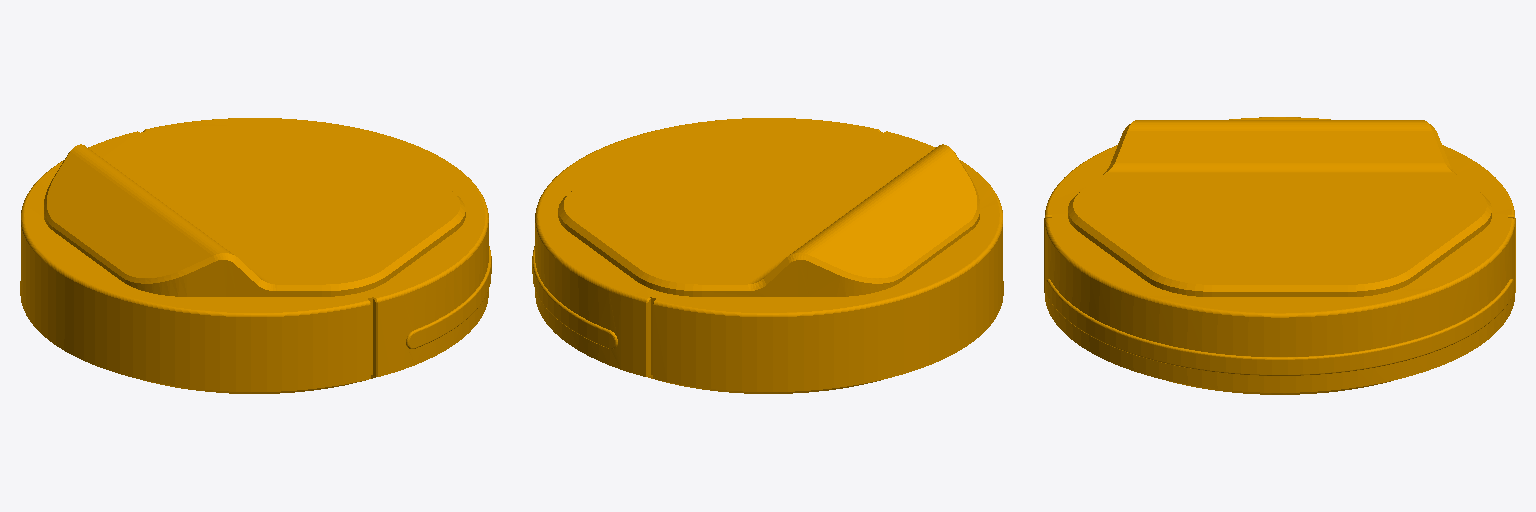
The robot description file, URDF, robot "robot_model":
<?xml version="1.0" ?>
  <robot name="robot_model">

  <!--<link name="base_link">-->
      <!--&lt;!&ndash;<visual>&ndash;&gt;-->
        <!--&lt;!&ndash;<geometry>&ndash;&gt;-->
          <!--&lt;!&ndash;&lt;!&ndash; new mesh &ndash;&gt;&ndash;&gt;-->
          <!--&lt;!&ndash;<mesh filename="package://mybot_description/meshes/main_body.dae" />&ndash;&gt;-->
          <!--&lt;!&ndash;&lt;!&ndash;<mesh filename="package://puremindbot/robot/meshes/pr2.dae" />&ndash;&gt;&ndash;&gt;-->
        <!--&lt;!&ndash;</geometry>&ndash;&gt;-->
        <!--&lt;!&ndash;<origin xyz="0.0 0 0.0" rpy="0 0 0"/>&ndash;&gt;-->
      <!--&lt;!&ndash;</visual>&ndash;&gt;-->
      <!--<collision name="base_link">-->
        <!--<geometry>-->
          <!--<cylinder length="0.10938" radius="0.178"/>-->
        <!--</geometry>-->
        <!--<origin xyz="0.0 0 0.05949" rpy="0 0 0"/>-->
      <!--</collision>-->
      <!--<inertial>-->
        <!--&lt;!&ndash; COM experimentally determined &ndash;&gt;-->
        <!--<origin xyz="0.01 0 0"/>-->
        <!--<mass value="2.4"/> &lt;!&ndash; 2.4/2.6 kg for small/big battery pack &ndash;&gt;-->
        <!--&lt;!&ndash; Kobuki's inertia tensor is approximated by a cylinder with homogeneous mass distribution-->
             <!--More details: http://en.wikipedia.org/wiki/List_of_moment_of_inertia_tensors-->
             <!--m = 2.4 kg; h = 0.09 m; r = 0.175 m-->
             <!--ixx = 1/12 * m * (3 * r^2 + h^2)-->
             <!--iyy = 1/12 * m * (3 * r^2 + h^2)-->
             <!--izz = 1/2 * m * r^2-->
          <!--&ndash;&gt;-->
        <!--<inertia ixx="0.019995" ixy="0.0" ixz="0.0"-->
                 <!--iyy="0.019995" iyz="0.0"-->
                 <!--izz="0.03675" />-->
      <!--</inertial>-->
    <!--</link>-->

    <link name="base_link">
      <visual>
        <geometry>
          <!-- new mesh -->
          <mesh filename="package://puremind_configrobot/robot/meshes/main_body.dae" />
          <!--<mesh filename="package://puremindbot/robot/meshes/pr2.dae" />-->
        </geometry>
        <origin xyz="0.0 0 0.0" rpy="0 0 0"/>
      </visual>
      <collision name="base_link">
        <geometry>
          <cylinder length="0.10938" radius="0.178"/>
        </geometry>
        <origin xyz="0.0 0 0.05949" rpy="0 0 0"/>
      </collision>
      <inertial>
        <!-- COM experimentally determined -->
        <origin xyz="0.01 0 0"/>
        <mass value="2.4"/> <!-- 2.4/2.6 kg for small/big battery pack -->
        <!-- Kobuki's inertia tensor is approximated by a cylinder with homogeneous mass distribution
             More details: http://en.wikipedia.org/wiki/List_of_moment_of_inertia_tensors
             m = 2.4 kg; h = 0.09 m; r = 0.175 m
             ixx = 1/12 * m * (3 * r^2 + h^2)
             iyy = 1/12 * m * (3 * r^2 + h^2)
             izz = 1/2 * m * r^2
          -->
        <inertia ixx="0.019995" ixy="0.0" ixz="0.0"
                 iyy="0.019995" iyz="0.0"
                 izz="0.03675" />
      </inertial>
    </link>

    <link name="usb_cam">
      <visual>
        <geometry>
            <sphere radius="0.025"/>
        </geometry>
        <material name="green">
            <color rgba="0 .8 0 1"/>
        </material>
      </visual>
      <!--<collision>-->
        <!--<geometry>-->
            <!--<sphere radius="0.025"/>-->
        <!--</geometry>-->
      <!--</collision>-->
      <inertial>
        <origin rpy="0 0 0" xyz="0.000000 0.000000 0.000000"/>
        <mass value="0.1"/>
        <inertia ixx="0.0104" ixy="0" ixz="0" iyy="0.05638" iyz="0" izz="0.0500"/>
      </inertial>
    </link>

     <!--<joint name="base_link_to_base_link" type="fixed">-->
        <!--<parent link="base_link"/>-->
        <!--<child link="base_link"/>-->
        <!--<origin rpy="0 0 0" xyz="0.00 0 0.0"/>-->
        <!--<limit effort="100" velocity="100"/>-->
        <!--<joint_properties damping="0.0" friction="10"/>-->
    <!--</joint>-->

    <joint name="base_link_to_usb_cam" type="fixed">
        <parent link="base_link"/>
        <child link="usb_cam"/>
        <origin rpy="0 0 0" xyz="0.00 0 0.0"/>
        <limit effort="100" velocity="100"/>
        <joint_properties damping="0.0" friction="10"/>
    </joint>

  </robot>

--- What the picture shows (computed from the rendered views, not written in the file) ---
The picture shows the robot from 3 angles, left to right: view 1: azimuth 30°, elevation 25°; view 2: azimuth 150°, elevation 25°; view 3: azimuth 270°, elevation 25°; orthographic projection.
Model robot_model with 2 links and 1 joints (1 fixed), rooted at base_link, posed every joint at zero.
Visible links, largest first — view 1: base_link; view 2: base_link; view 3: base_link.
Link boxes in pixels (left/top/right/bottom): base_link: left=20, top=118, right=491, bottom=393; base_link: left=532, top=118, right=1003, bottom=393; base_link: left=1044, top=117, right=1515, bottom=394.
Size in the robot's own frame: 1.41 by 1.4 by 0.4972 metres.
1 mesh visuals loaded from 1 distinct referenced files (1 Collada DAE).